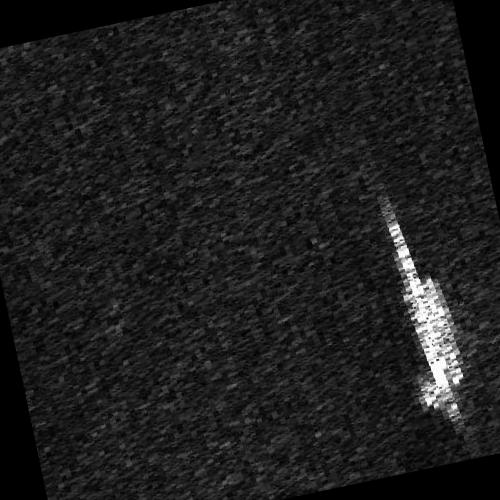ship: (383, 205, 461, 425)
